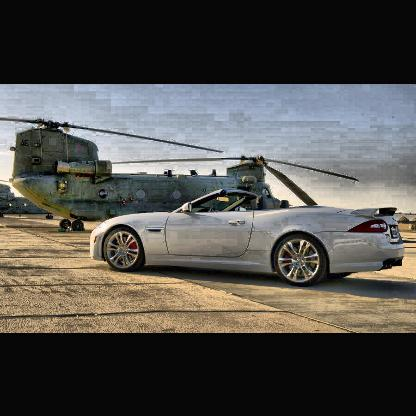Jaguar XK XKR 2012: (92, 187, 407, 288)
